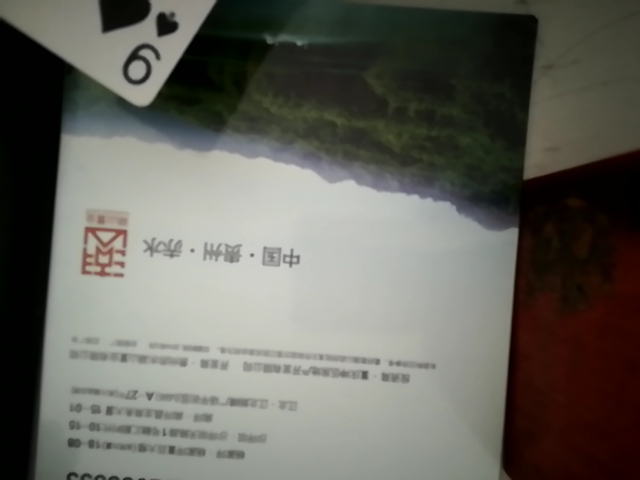ht 9: (0, 0, 470, 130)
